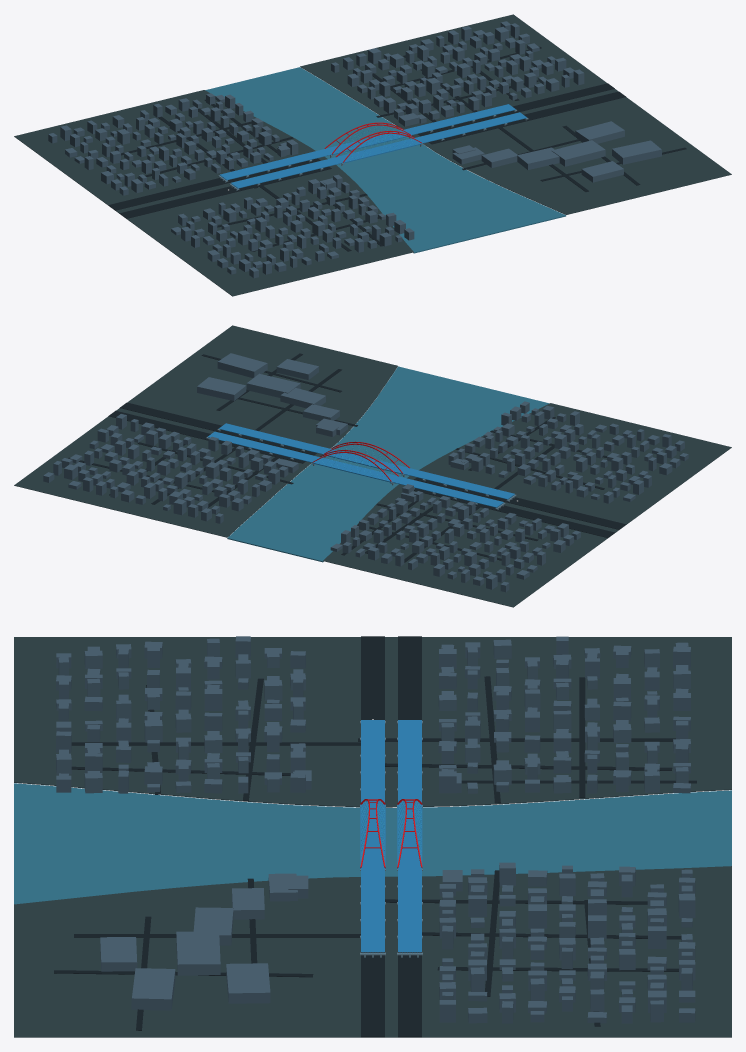
The model's file is binh-loi-v5-reference.glb.
3 renders of one model, top to bottom at view 1: azimuth 30°, elevation 25°; view 2: azimuth 150°, elevation 25°; view 3: azimuth 270°, elevation 25°, orthographic. The views are drawn at different scales.
Visible parts, largest first — view 1: East Land [1246656], West Land [1246655], Saigon River [1246654], West Residential Light [1246661], West Residential Medium [1246660], West Residential Dark [1246659], Pham Van Dong Roads [1246657], Industrial Buildings [1246665], East Residential Light [1246664], East Residential Dark [1246662], East Residential Medium [1246663], Local Roads [1246658] (+3 smaller); view 2: East Land [1246656], West Land [1246655], Saigon River [1246654], West Residential Dark [1246659], West Residential Light [1246661], West Residential Medium [1246660], Industrial Buildings [1246665], Pham Van Dong Roads [1246657], East Residential Light [1246664], East Residential Dark [1246662], East Residential Medium [1246663], Local Roads [1246658] (+3 smaller); view 3: East Land [1246656], West Land [1246655], Saigon River [1246654], West Residential Light [1246661], West Residential Dark [1246659], West Residential Medium [1246660], Local Roads [1246658], Industrial Buildings [1246665], East Residential Light [1246664], Pham Van Dong Roads [1246657], East Residential Dark [1246662], East Residential Medium [1246663] (+3 smaller).
Part boxes in pixels (x1,y1,x2,y2): East Land [1246656]: (300, 14, 731, 214); West Land [1246655]: (14, 90, 413, 296); Saigon River [1246654]: (205, 67, 566, 253); West Residential Light [1246661]: (48, 93, 405, 274); West Residential Medium [1246660]: (73, 99, 414, 278); West Residential Dark [1246659]: (60, 95, 402, 271); Pham Van Dong Roads [1246657]: (108, 83, 625, 218); Industrial Buildings [1246665]: (452, 121, 661, 182); East Residential Light [1246664]: (331, 23, 574, 119); East Residential Dark [1246662]: (343, 21, 569, 117); East Residential Medium [1246663]: (356, 26, 584, 123); Local Roads [1246658]: (121, 44, 686, 251); East Land [1246656]: (14, 325, 397, 537); West Land [1246655]: (323, 403, 731, 607); Saigon River [1246654]: (227, 366, 549, 562); West Residential Dark [1246659]: (330, 408, 672, 589); West Residential Light [1246661]: (341, 405, 680, 592); West Residential Medium [1246660]: (351, 401, 688, 585); Industrial Buildings [1246665]: (197, 353, 347, 435); Pham Van Dong Roads [1246657]: (108, 402, 625, 537); East Residential Light [1246664]: (53, 422, 279, 523); East Residential Dark [1246662]: (43, 419, 271, 521); East Residential Medium [1246663]: (61, 414, 288, 517); Local Roads [1246658]: (68, 353, 606, 562); East Land [1246656]: (14, 866, 731, 1037); West Land [1246655]: (14, 637, 731, 807); Saigon River [1246654]: (14, 783, 731, 904); West Residential Light [1246661]: (56, 638, 690, 793); West Residential Dark [1246659]: (56, 636, 690, 793); West Residential Medium [1246660]: (56, 636, 690, 793); Local Roads [1246658]: (54, 676, 696, 1030); Industrial Buildings [1246665]: (100, 873, 297, 1010); East Residential Light [1246664]: (439, 862, 695, 1023); Pham Van Dong Roads [1246657]: (361, 636, 421, 1037); East Residential Dark [1246662]: (439, 866, 695, 1023); East Residential Medium [1246663]: (439, 865, 695, 1023).
Size of the model in its own units: 950 by 42.75 by 720.
